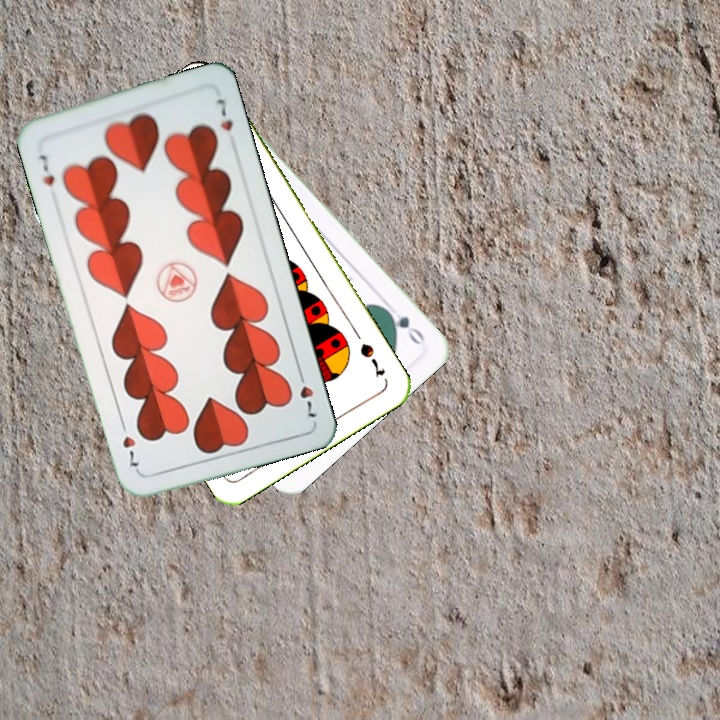GO: (380, 304, 429, 348)
H7: (293, 365, 320, 420), (35, 151, 57, 188)
S7: (355, 339, 388, 381)
